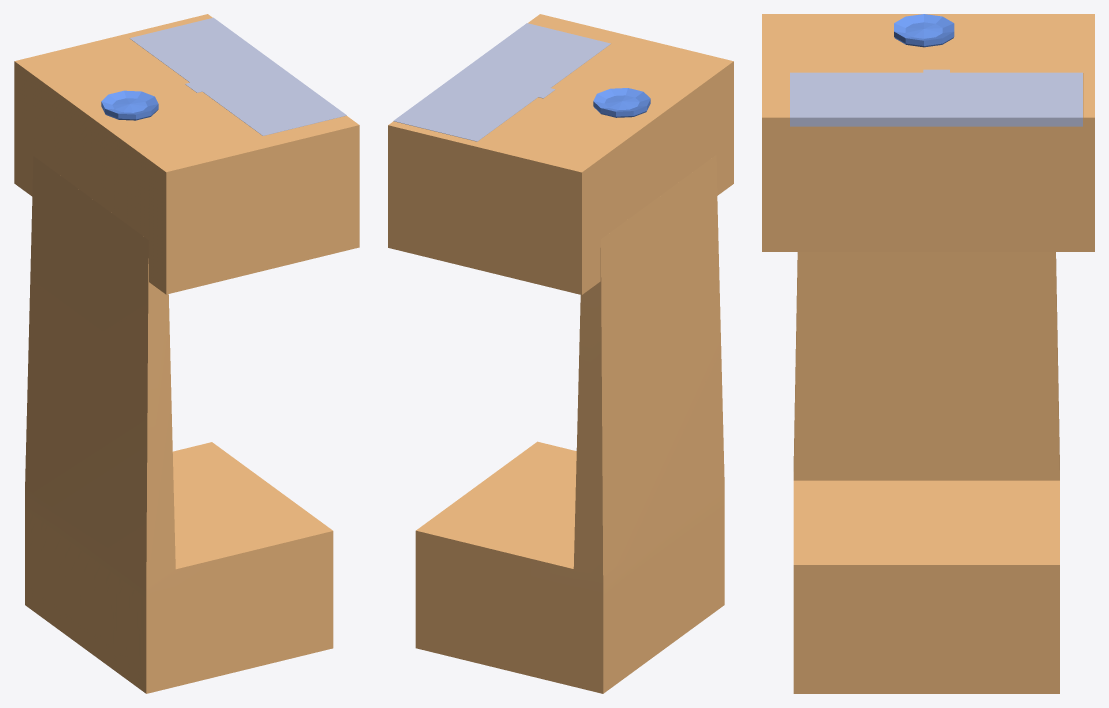
The model's file is TracerSwitch.fbx.
The picture shows the model from 3 angles, left to right: view 1: azimuth 30°, elevation 25°; view 2: azimuth 150°, elevation 25°; view 3: azimuth 270°, elevation 25°; orthographic projection. The views are drawn at different scales.
Visible parts, largest first — view 1: 立方体_1_3, 立方体_1, 凸台_拉伸4, 球体; view 2: 立方体_1_3, 立方体_1, 凸台_拉伸4, 球体; view 3: 立方体_1_3, 立方体_1, 凸台_拉伸4, 球体.
Part boxes in pixels (x1,y1,x2,y2): 立方体_1_3: (25, 156, 333, 693); 立方体_1: (14, 14, 359, 294); 凸台_拉伸4: (129, 17, 346, 135); 球体: (101, 90, 158, 120); 立方体_1_3: (415, 155, 724, 693); 立方体_1: (388, 14, 733, 294); 凸台_拉伸4: (393, 23, 610, 141); 球体: (593, 88, 650, 117); 立方体_1_3: (793, 252, 1059, 693); 立方体_1: (762, 14, 1094, 251); 凸台_拉伸4: (790, 69, 1082, 126); 球体: (894, 14, 954, 47).
Bounding box in the file's own units: 1.49 × 3.85 × 1.97.
